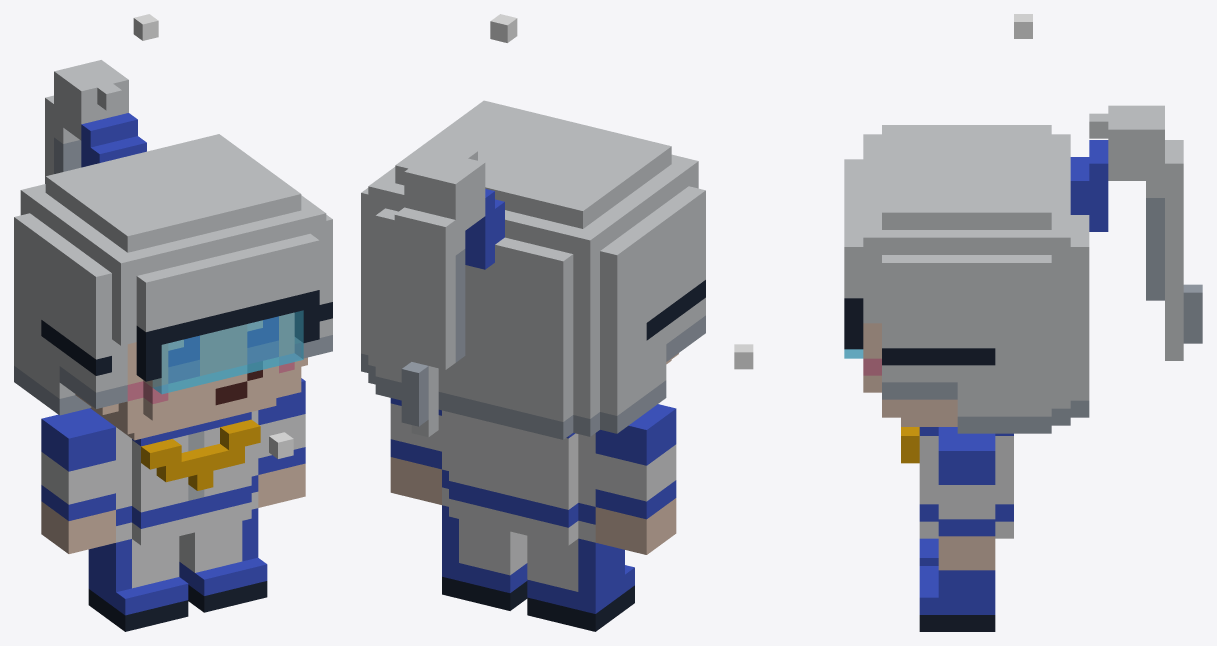
Rendered from Char_Hikari.fbx.
The picture shows the model from 3 angles, left to right: view 1: azimuth 30°, elevation 25°; view 2: azimuth 150°, elevation 25°; view 3: azimuth 270°, elevation 25°; orthographic projection. The views are drawn at different scales.
Visible parts, largest first — view 1: Head, Torso, ArmR, LegR, Head__Glass_4CC9F0_45, LegL, ArmL, TopMarker, FrontMarker; view 2: Head, Torso, ArmR, LegR, LegL, ArmL, TopMarker; view 3: Head, ArmL, Torso, LegL.
Part boxes in pixels (left/top/right/bottom): Head: left=14, top=60, right=332, bottom=440; Torso: left=116, top=410, right=260, bottom=545; ArmR: left=41, top=408, right=115, bottom=553; LegR: left=88, top=536, right=188, bottom=631; Head__Glass_4CC9F0_45: left=152, top=310, right=303, bottom=394; LegL: left=179, top=508, right=267, bottom=612; ArmL: left=258, top=378, right=305, bottom=507; TopMarker: left=133, top=14, right=158, bottom=40; FrontMarker: left=269, top=432, right=293, bottom=458; Head: left=361, top=100, right=705, bottom=439; Torso: left=442, top=410, right=595, bottom=545; ArmR: left=595, top=404, right=676, bottom=554; LegR: left=527, top=535, right=634, bottom=631; LegL: left=442, top=505, right=527, bottom=610; ArmL: left=390, top=398, right=441, bottom=504; TopMarker: left=490, top=14, right=517, bottom=42; Head: left=844, top=105, right=1202, bottom=433; ArmL: left=938, top=427, right=995, bottom=570; Torso: left=901, top=427, right=1013, bottom=538; LegL: left=919, top=566, right=995, bottom=631.
Size of the model in its own units: 2.81 by 6.34 by 4.66.
